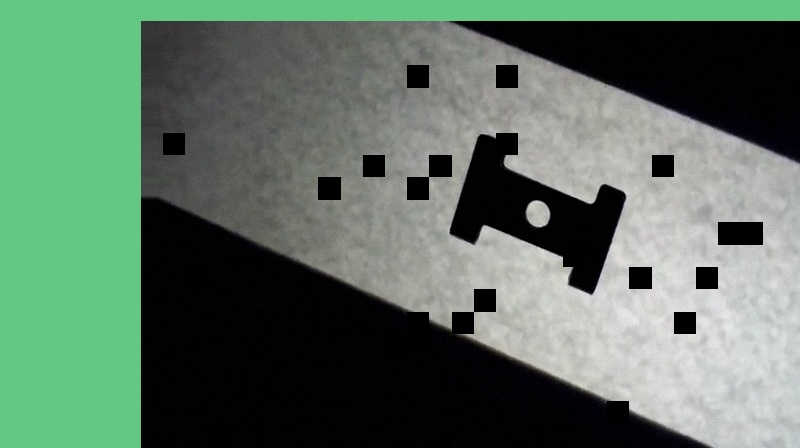O002: (447, 130, 628, 295)
